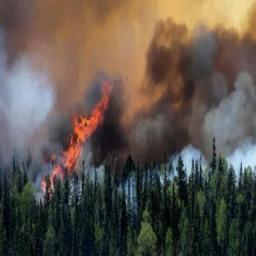Heavy smoke: (1, 1, 256, 179)
Medium fire: (42, 81, 114, 202)
